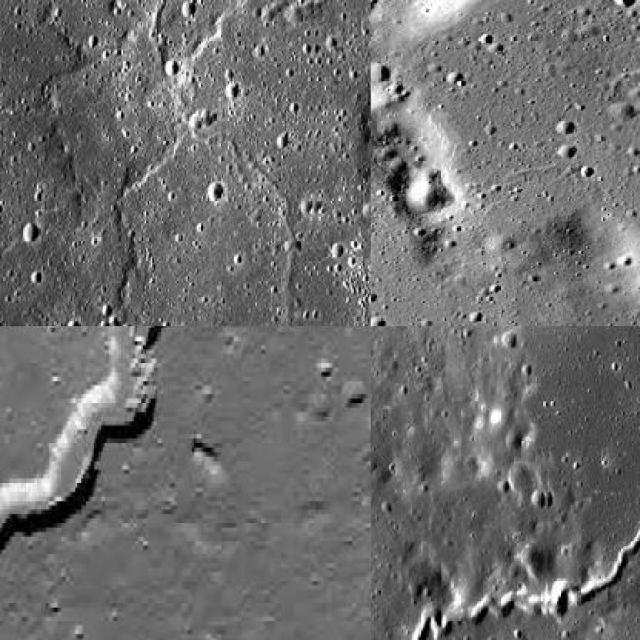rille: (0, 326, 331, 639), (112, 0, 353, 318), (391, 380, 638, 638), (578, 0, 638, 325), (75, 0, 180, 66)
